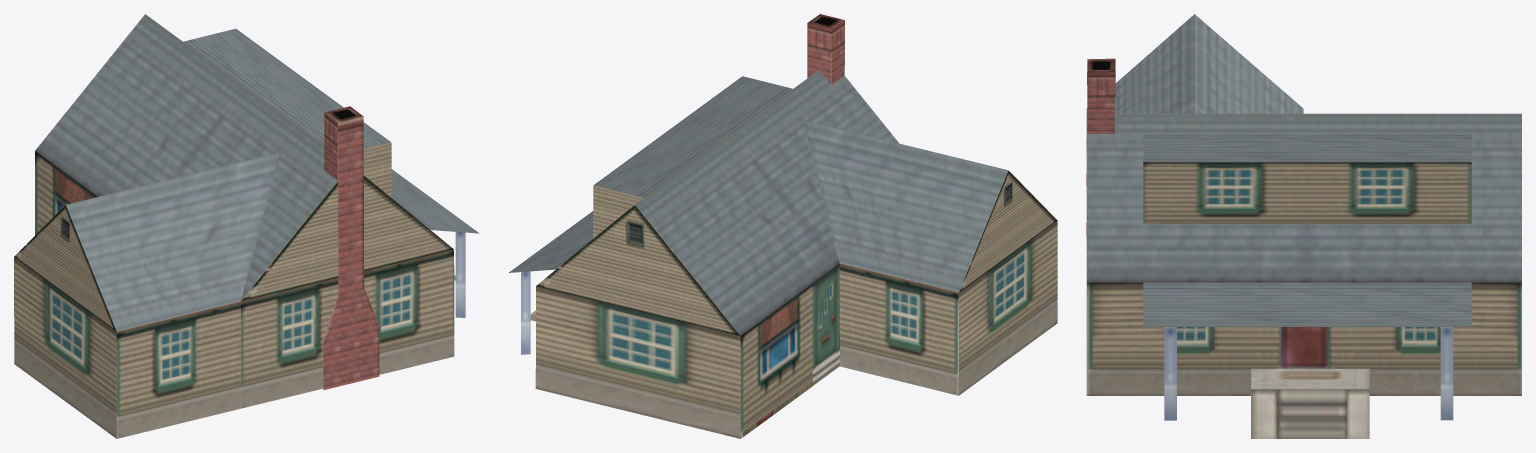
Rendered from house3.glb.
3 views of the same model, side by side, from view 1: azimuth 30°, elevation 25°; view 2: azimuth 150°, elevation 25°; view 3: azimuth 270°, elevation 25° (orthographic). The views are drawn at different scales.
Visible parts, largest first — view 1: house3; view 2: house3; view 3: house3.
Part boxes in pixels (x1,y1,x2,y2): house3: (14, 14, 479, 438); house3: (509, 14, 1057, 438); house3: (1086, 14, 1521, 438).
Bounding box in the file's own units: 2010 × 1203 × 1705.
3 materials, 3 textured.
